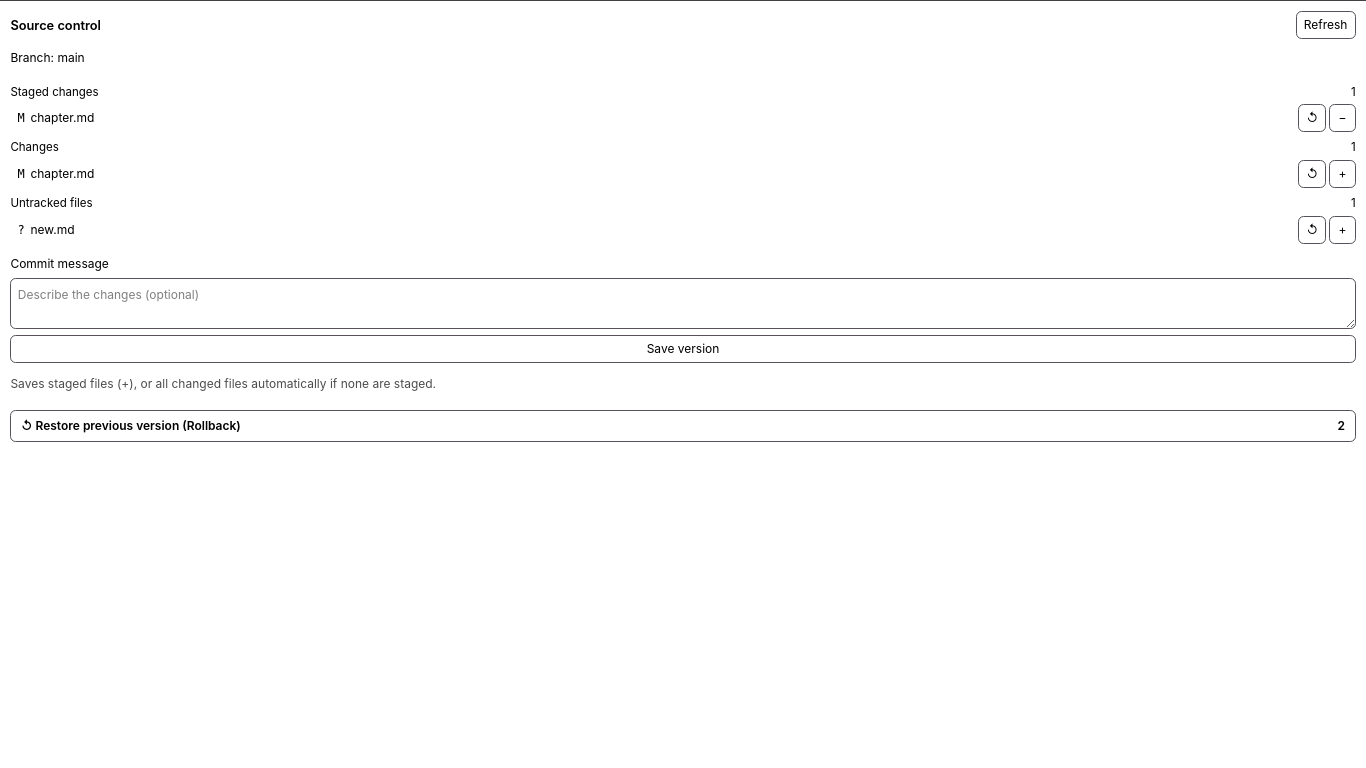
VersionControlPanel › can close while loading without reopening when the response arrives
What coordinates should you click on to do the following:
click the 2nd button "M chapter.md"
I would click on:
 (62, 173)
Its box is top-left (10, 160), bottom-right (1295, 188).
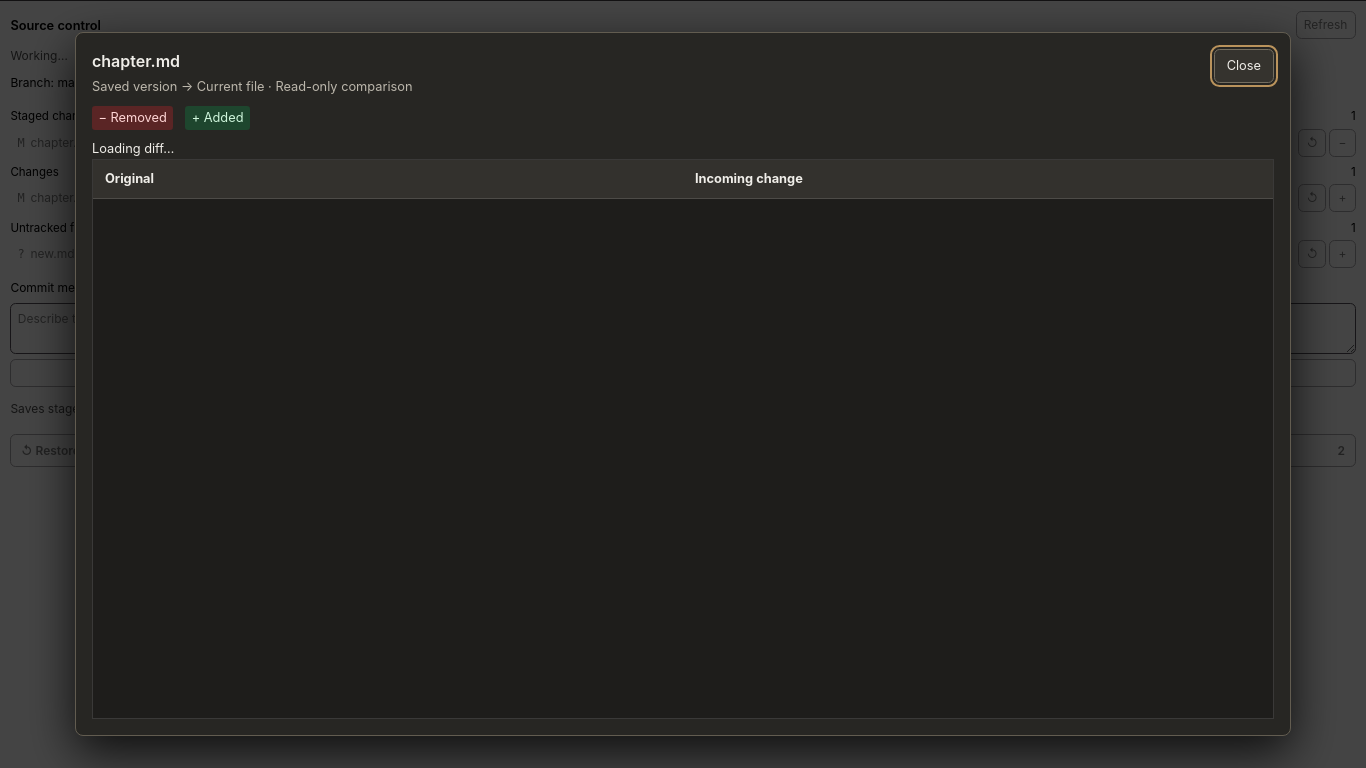
Check: the message "Loading diff…" is shown, box top-left (92, 141), bottom-right (174, 156)
What coordinates should you click on to do the following:
click the button "Close"
I would click on:
 (1244, 66)
Its box is top-left (1214, 49), bottom-right (1274, 83).
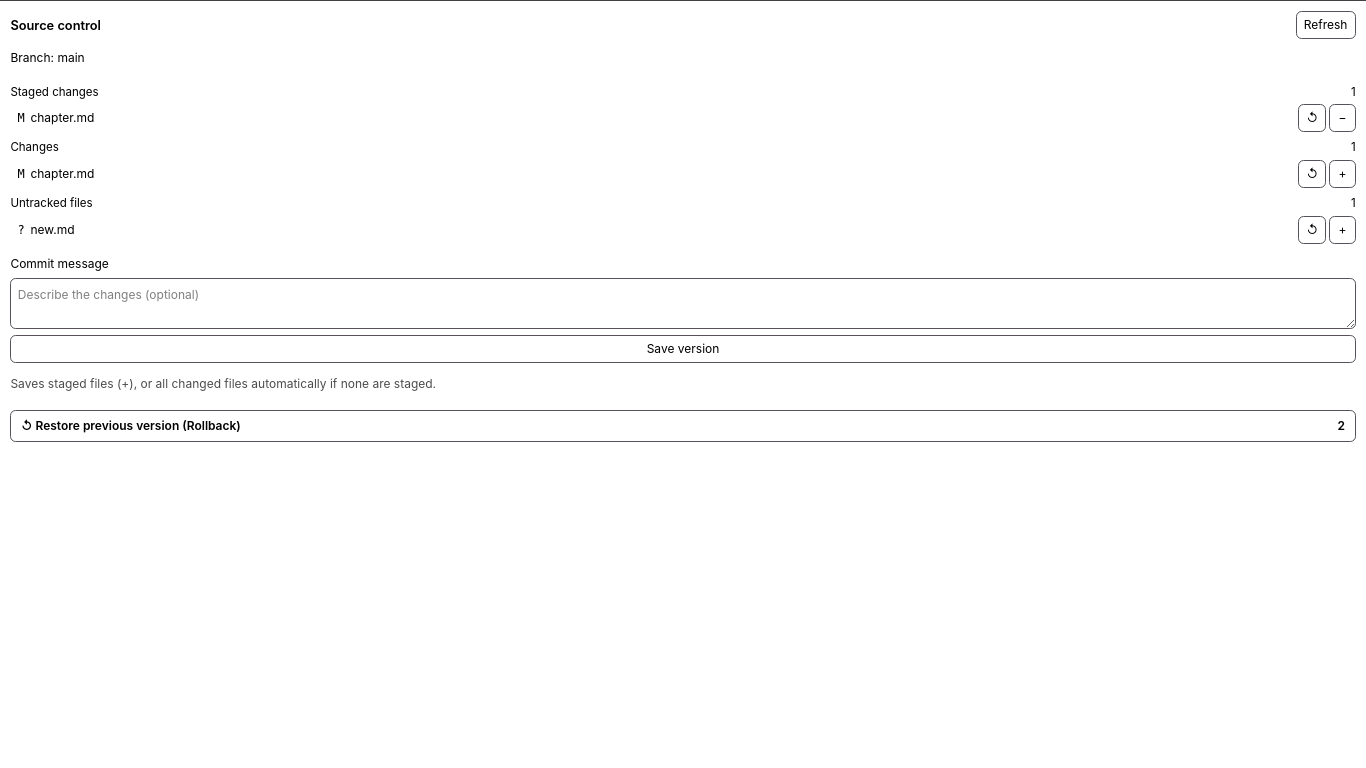
Check: the dialog is gone
